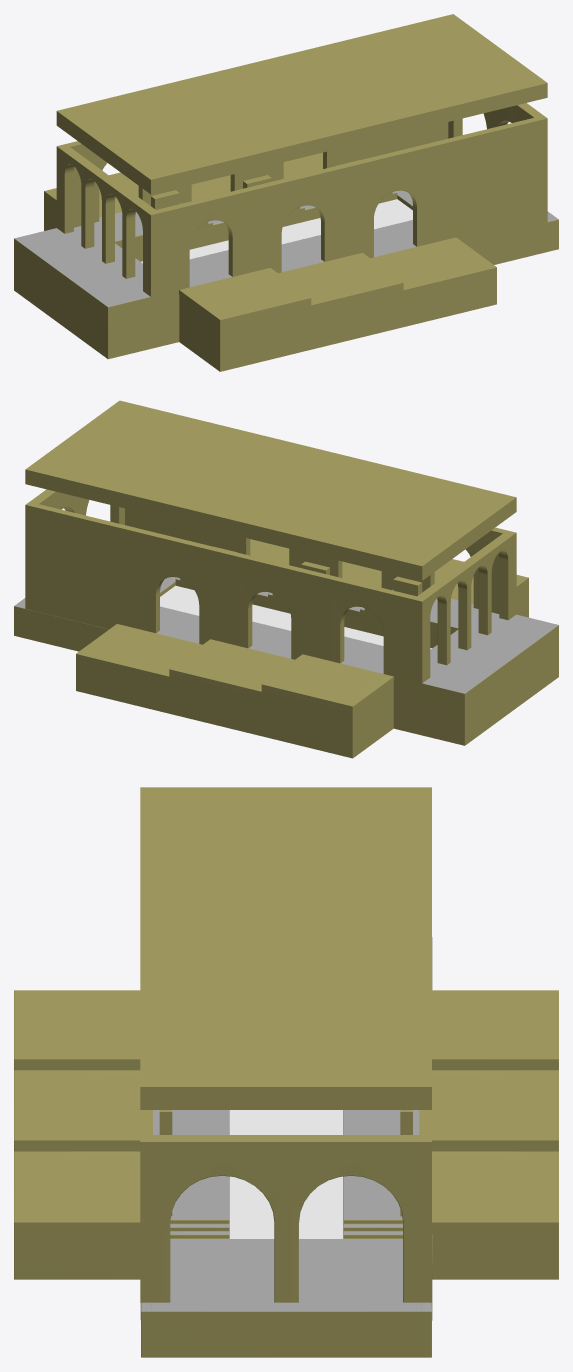
Rendered from Architecture.fbx.
The picture shows the model from 3 angles, top to bottom: view 1: azimuth 30°, elevation 25°; view 2: azimuth 150°, elevation 25°; view 3: azimuth 270°, elevation 25°; orthographic projection. The views are drawn at different scales.
Visible parts, largest first — view 1: ROOF, LWALL, LEXTERIORWALK, LWALK2, LWALK1, FWALL, RWALL, REXTERIORWALK, FOUNTAINPLANE, BWALL, STATIONS; view 2: ROOF, RWALL, REXTERIORWALK, LWALK1, LWALK2, FWALL, LWALL, LEXTERIORWALK, FOUNTAINPLANE, BWALL, STATIONS; view 3: ROOF, REXTERIORWALK, LEXTERIORWALK, BWALL, LWALK1, LWALK2, FOUNTAINPLANE, LWALL, RWALL, STATIONS.
Part boxes in pixels (x1,y1,x2,y2): ROOF: [56, 14, 547, 194]; LWALL: [147, 115, 547, 296]; LEXTERIORWALK: [179, 237, 496, 371]; LWALK2: [61, 211, 558, 359]; LWALK1: [14, 190, 412, 324]; FWALL: [60, 147, 155, 293]; RWALL: [56, 122, 448, 230]; REXTERIORWALK: [44, 152, 322, 230]; FOUNTAINPLANE: [141, 199, 412, 263]; BWALL: [448, 103, 543, 138]; STATIONS: [151, 160, 359, 209]; ROOF: [25, 400, 516, 580]; RWALL: [25, 502, 426, 683]; REXTERIORWALK: [76, 624, 393, 758]; LWALK1: [14, 598, 511, 745]; LWALK2: [160, 577, 558, 710]; FWALL: [417, 533, 512, 679]; LWALL: [125, 508, 516, 616]; LEXTERIORWALK: [250, 539, 528, 617]; FOUNTAINPLANE: [160, 585, 431, 649]; BWALL: [30, 489, 124, 524]; STATIONS: [213, 546, 422, 596]; ROOF: [140, 787, 431, 1109]; REXTERIORWALK: [432, 990, 558, 1279]; LEXTERIORWALK: [14, 990, 140, 1279]; BWALL: [153, 1135, 419, 1302]; LWALK1: [286, 937, 432, 1357]; LWALK2: [140, 1110, 286, 1357]; FOUNTAINPLANE: [229, 1110, 343, 1238]; LWALL: [140, 1110, 152, 1302]; RWALL: [419, 1110, 431, 1302]; STATIONS: [159, 1110, 412, 1216].
Bounding box in the file's own units: 3177 × 1138 × 2148.
